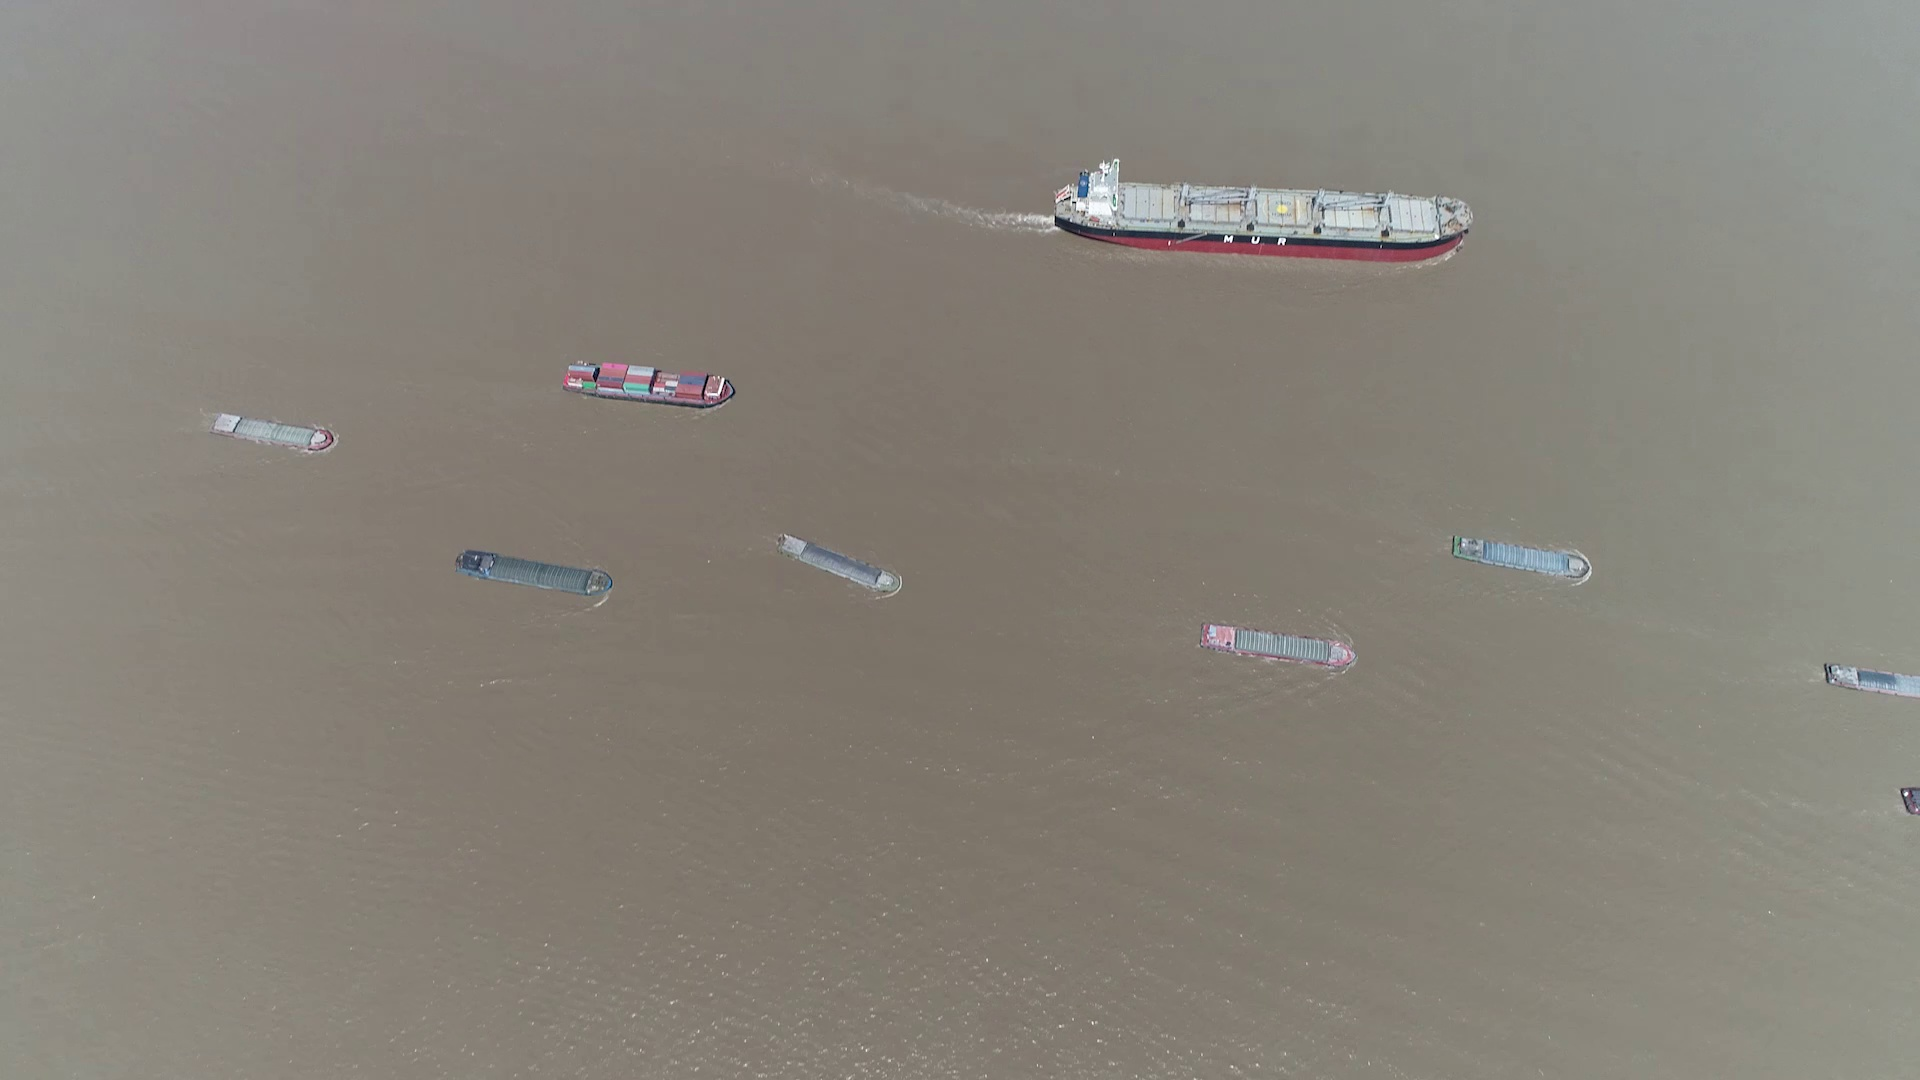ship: (1055, 166, 1472, 261), (564, 360, 737, 407), (781, 535, 903, 595), (458, 551, 615, 597), (1201, 624, 1356, 666), (1449, 535, 1593, 580), (210, 411, 338, 451), (1824, 662, 1920, 699)
